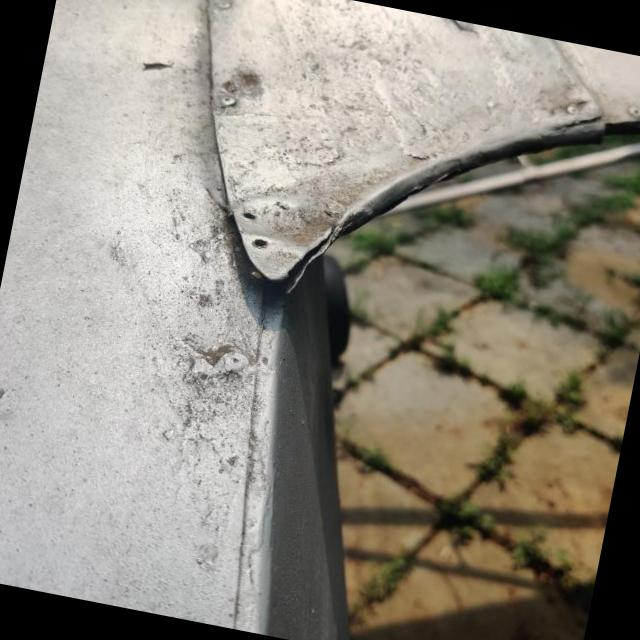Crack: (262, 241, 329, 294)
